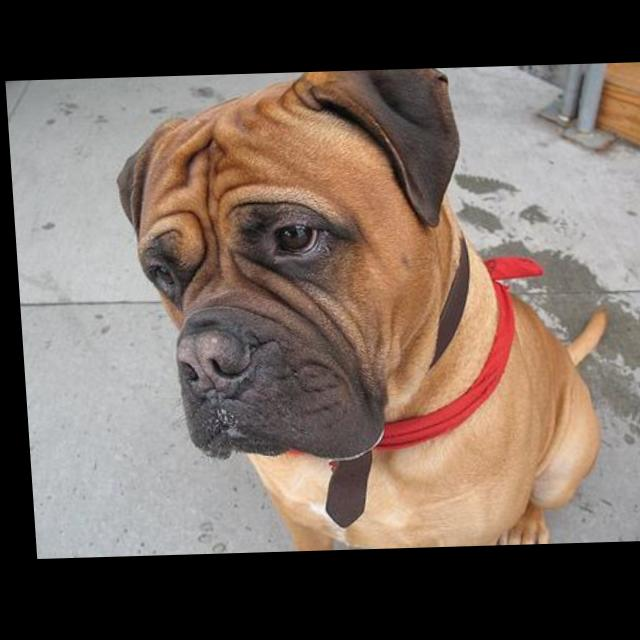bullmastiff: (107, 68, 616, 558)
